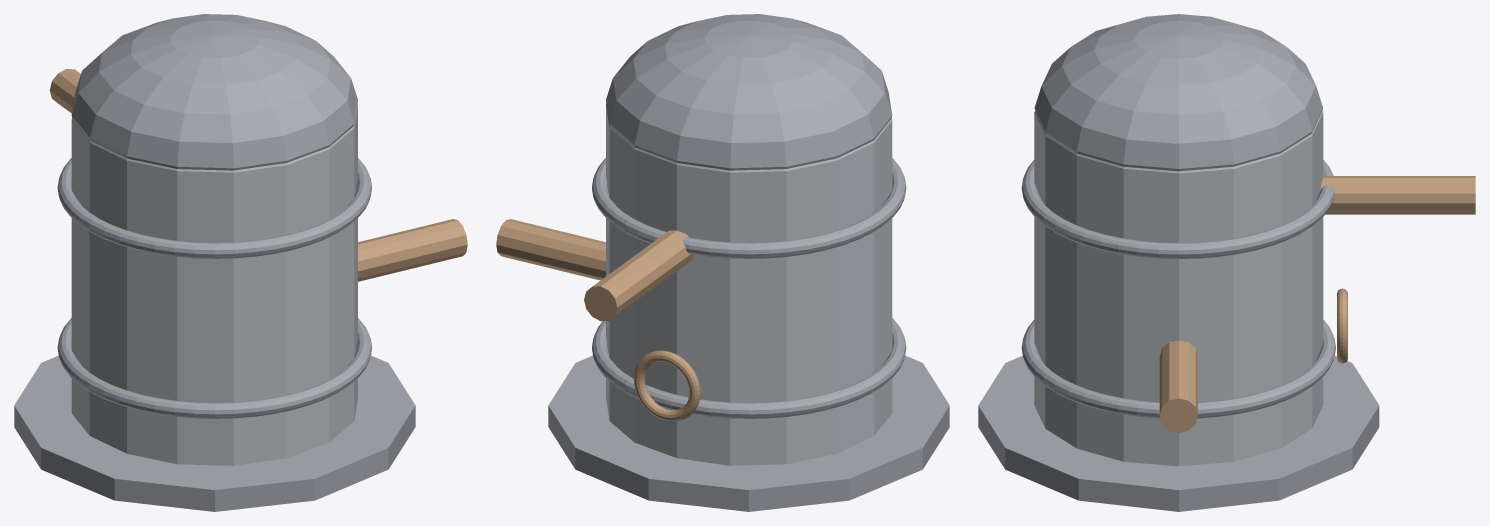
File: storage_tank.glb
3 views of the same model, side by side, from view 1: azimuth 30°, elevation 25°; view 2: azimuth 150°, elevation 25°; view 3: azimuth 270°, elevation 25° (orthographic).
Parts seen in each view (by area): view 1: TankBody, TankDome, TankSlab, TankBand.001, TankBand, TankPipe1, TankPipe2; view 2: TankBody, TankDome, TankSlab, TankBand.001, TankBand, TankPipe2, TankPipe1, TankValve; view 3: TankBody, TankDome, TankSlab, TankBand.001, TankPipe2, TankBand, TankPipe1, TankValve.
Boxes of the visible parts, bbox=[...] form: TankBody: bbox=[71, 103, 357, 465]; TankDome: bbox=[71, 14, 357, 170]; TankSlab: bbox=[14, 355, 415, 511]; TankBand.001: bbox=[57, 158, 371, 258]; TankBand: bbox=[57, 318, 371, 418]; TankPipe1: bbox=[358, 219, 467, 281]; TankPipe2: bbox=[49, 69, 80, 113]; TankBody: bbox=[606, 103, 892, 465]; TankDome: bbox=[606, 14, 892, 170]; TankSlab: bbox=[548, 355, 949, 511]; TankBand.001: bbox=[592, 158, 906, 258]; TankBand: bbox=[592, 318, 906, 418]; TankPipe2: bbox=[584, 230, 693, 321]; TankPipe1: bbox=[496, 219, 605, 280]; TankValve: bbox=[634, 350, 700, 421]; TankBody: bbox=[1034, 111, 1323, 466]; TankDome: bbox=[1034, 14, 1322, 171]; TankSlab: bbox=[978, 355, 1379, 511]; TankBand.001: bbox=[1021, 160, 1334, 258]; TankPipe2: bbox=[1320, 176, 1475, 214]; TankBand: bbox=[1021, 320, 1335, 418]; TankPipe1: bbox=[1159, 340, 1197, 432]; TankValve: bbox=[1337, 288, 1347, 363].
Bounding box in the file's own units: 3 × 2.7 × 3.1.
